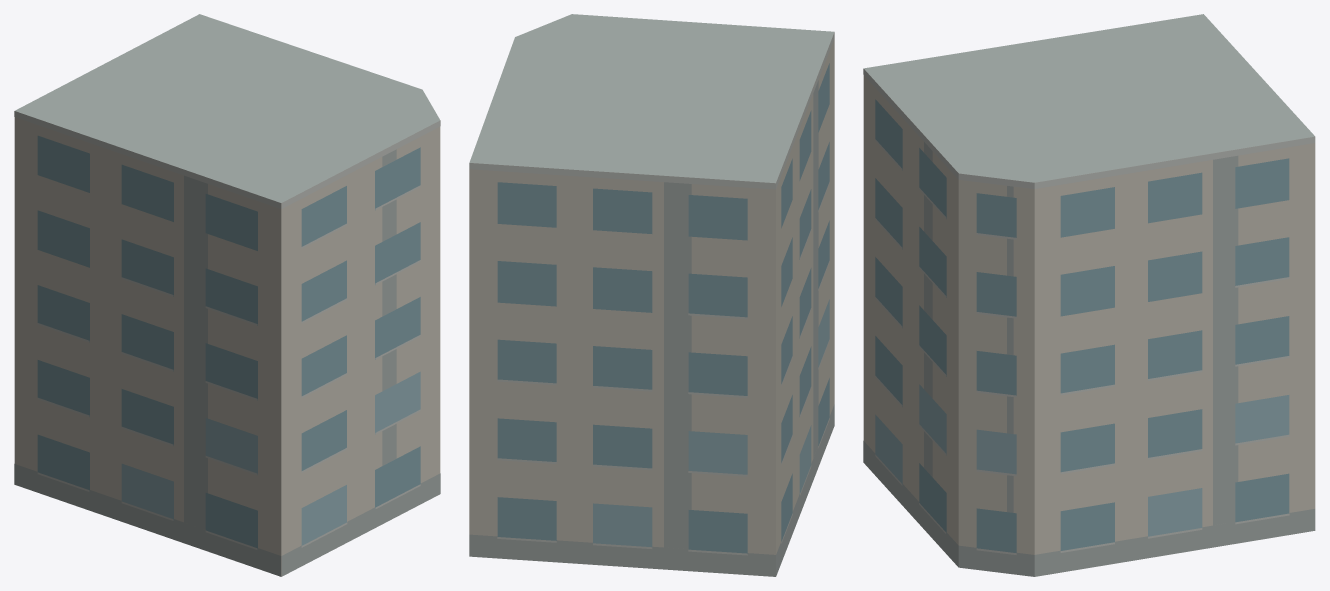
The model's file is residential-4dbdaa2c-443c-4aae-b544-ddfa9bf95538.glb.
The picture shows the model from 3 angles, left to right: view 1: azimuth 30°, elevation 25°; view 2: azimuth 150°, elevation 25°; view 3: azimuth 270°, elevation 25°; orthographic projection. The views are drawn at different scales.
Parts seen in each view (by area): view 1: residential-4dbdaa2c-443c-4aae-b544-ddfa9bf95538.tmp; view 2: residential-4dbdaa2c-443c-4aae-b544-ddfa9bf95538.tmp; view 3: residential-4dbdaa2c-443c-4aae-b544-ddfa9bf95538.tmp.
Part boxes in pixels (x1=…): residential-4dbdaa2c-443c-4aae-b544-ddfa9bf95538.tmp: x1=14, y1=14, x2=440, y2=576; residential-4dbdaa2c-443c-4aae-b544-ddfa9bf95538.tmp: x1=469, y1=14, x2=834, y2=576; residential-4dbdaa2c-443c-4aae-b544-ddfa9bf95538.tmp: x1=863, y1=14, x2=1315, y2=576.
Size of the model in its own units: 13.78 by 15 by 15.6.
